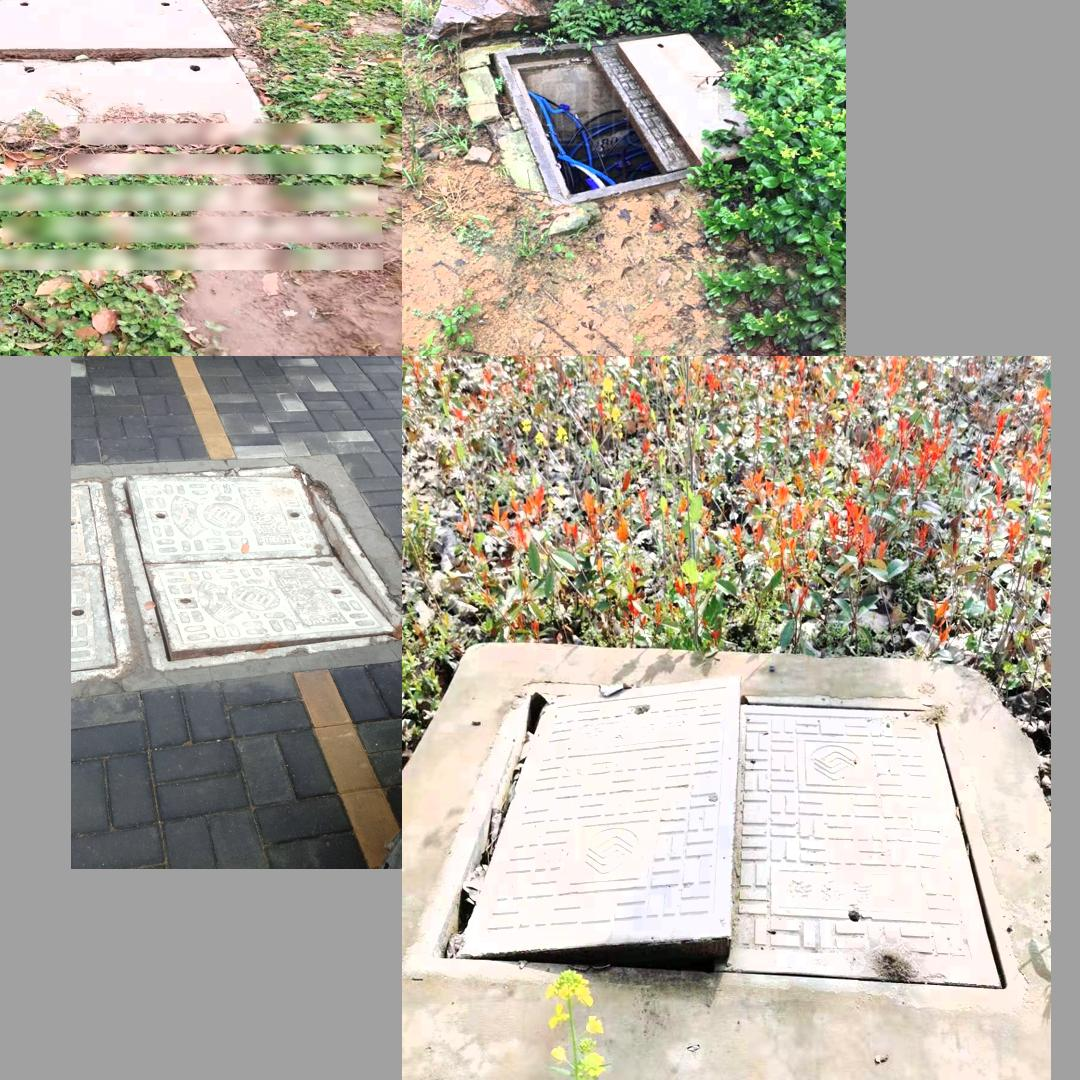uncovered: (402, 673, 1022, 1005), (110, 464, 398, 671), (488, 33, 754, 204), (0, 0, 248, 127)
